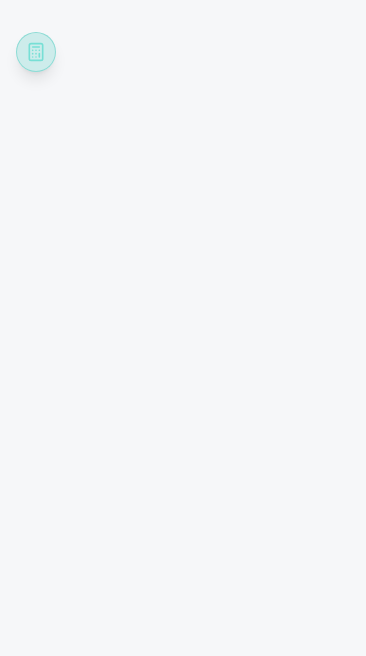
DoseCalculator › flags when a weight-based dose is capped at the informed maximum
Click the button titled "Abrir Calculadora de Dose" at coordinates (36, 52), box [16,32,56,72]
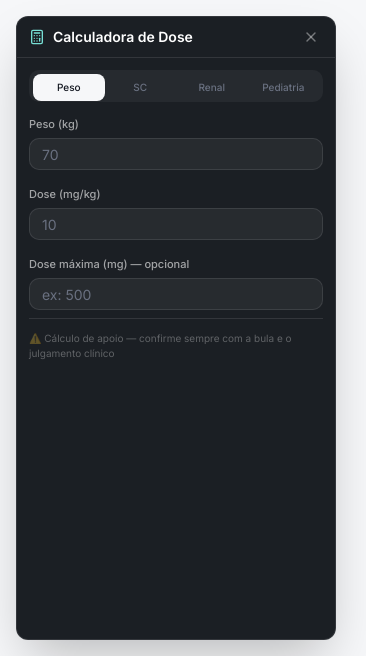
Type "10" into the number field labelled "Peso (kg)" at coordinates (176, 154), box [29,138,323,170]
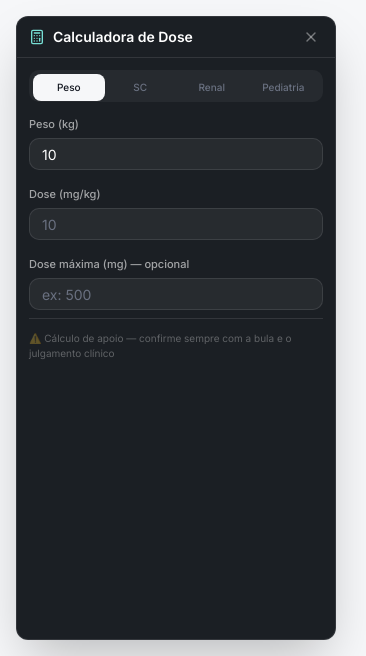
Type "5" into the number field labelled "Dose (mg/kg)" at coordinates (176, 224), box [29,208,323,240]
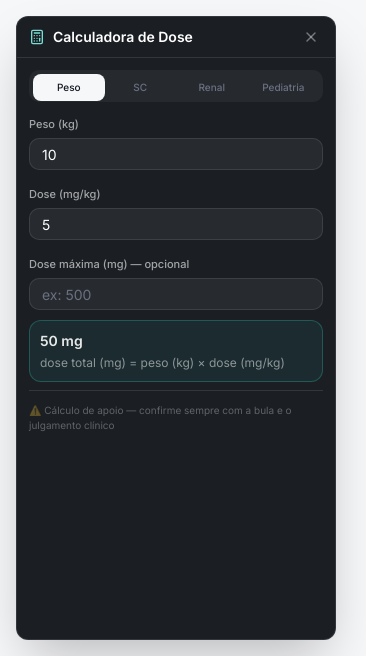
Type "40" into the number field labelled "Dose máxima (mg) — opcional" at coordinates (176, 294), box [29,278,323,310]
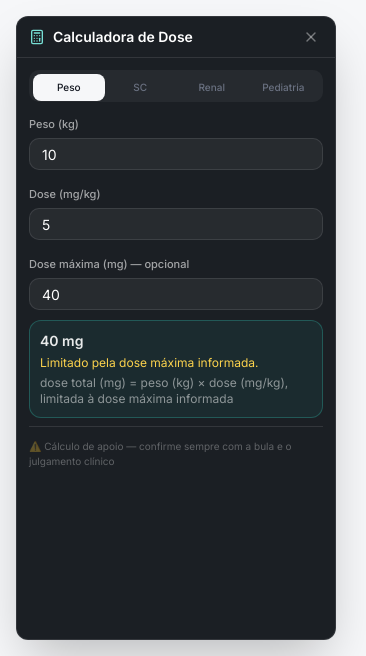
expect the text "40 mg" is shown: met, box [40,332,84,349]
expect the text "Limitado pela dose máxima informada." is shown: met, box [40,355,258,370]
